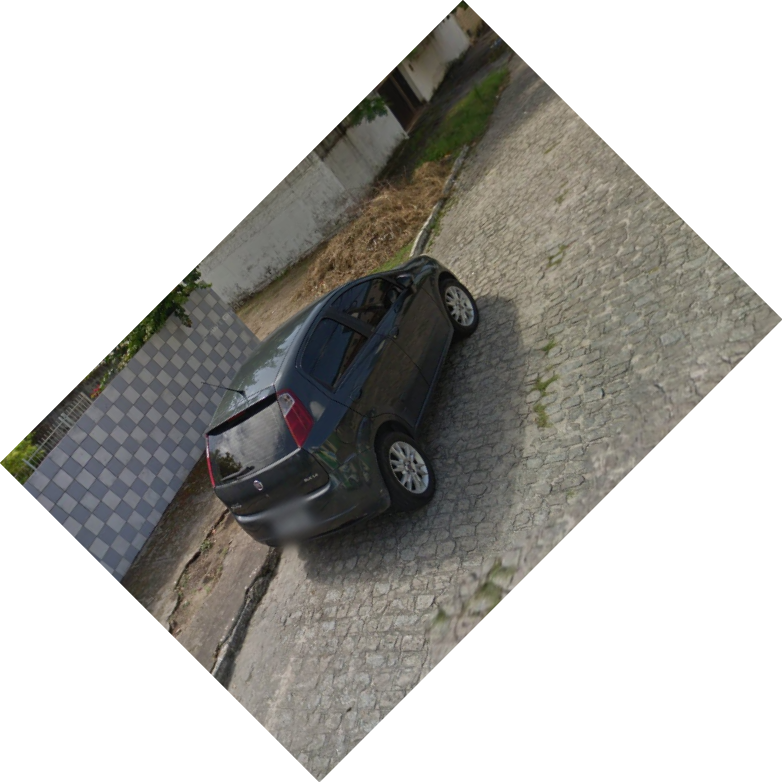car: (197, 252, 488, 562)
